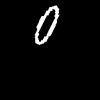chain: (35, 6, 58, 44)
